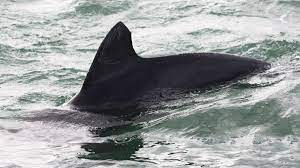fin: (33, 15, 281, 129)
